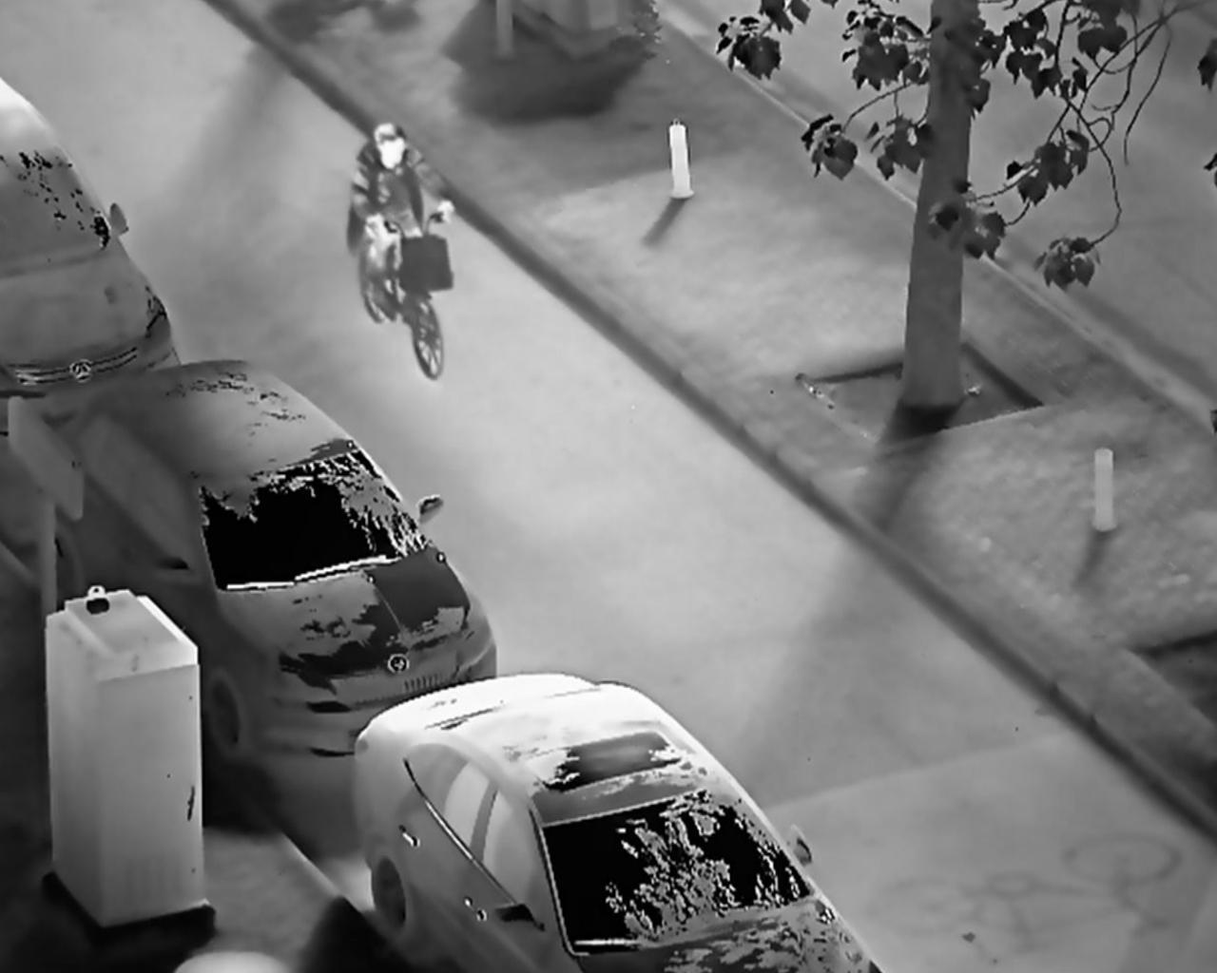person: (343, 118, 457, 327)
